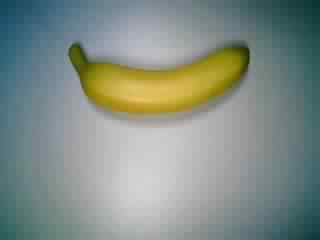banana: (63, 37, 252, 117)
